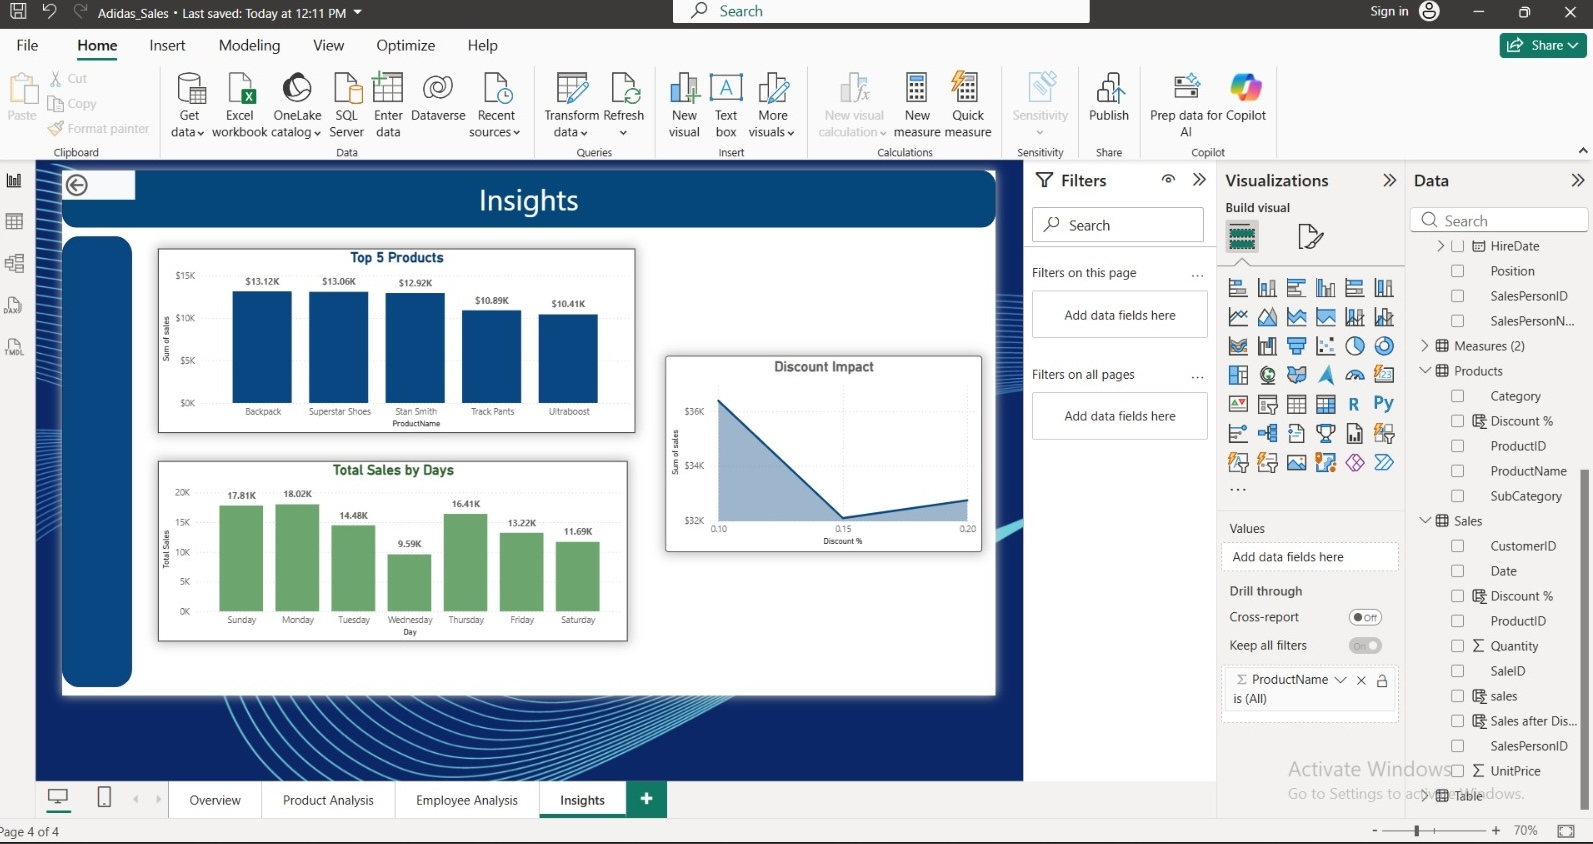

The dashboard page shown, as its layout file describes it:
{"tool":"powerbi","page":{"name":"Insights","canvas":[1280,720],"ordinal":3},"visuals":[{"type":"shape","box":[0,0,1280,78.3],"z":0},{"type":"shape","box":[0,90,95.7,618.6],"z":1000},{"type":"actionButton","box":[0,0,100,40],"z":2000},{"type":"clusteredColumnChart","title":"Total Sales by Days","fields":{"Category":["Calendar.Day Name"],"Y":["Measures (2).Total Sales"]},"box":[131.4,398.6,644.3,247.1],"z":3001},{"type":"columnChart","title":"Top 5 Products","fields":{"Category":["Products.ProductName"],"Y":["Sum(Sales.sales)"]},"box":[131.4,107.1,654.3,252.9],"z":3002},{"type":"lineChart","title":"Discount Impact","fields":{"Category":["Products.Discount %"],"Y":["Sum(Sales.sales)"]},"box":[827.1,254.3,434.3,268.6],"z":3003}]}

Visuals, with their boxes on the page's 1280x720 design canvas (x1, y1, x2, y2). These are canvas units, not pixel positions in the 1593x844 screenshot, which may show the page scaled, cropped or inside an application window:
shape: <box>0,0,1280,78</box>
shape: <box>0,90,96,709</box>
actionButton: <box>0,0,100,40</box>
"Total Sales by Days" clusteredColumnChart: <box>131,399,776,646</box>
"Top 5 Products" columnChart: <box>131,107,786,360</box>
"Discount Impact" lineChart: <box>827,254,1261,523</box>
